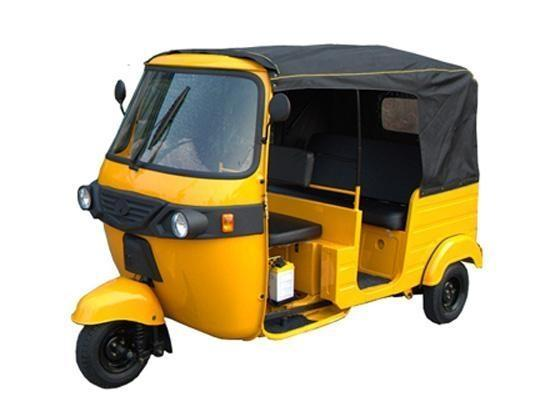keke: (60, 41, 495, 396)
